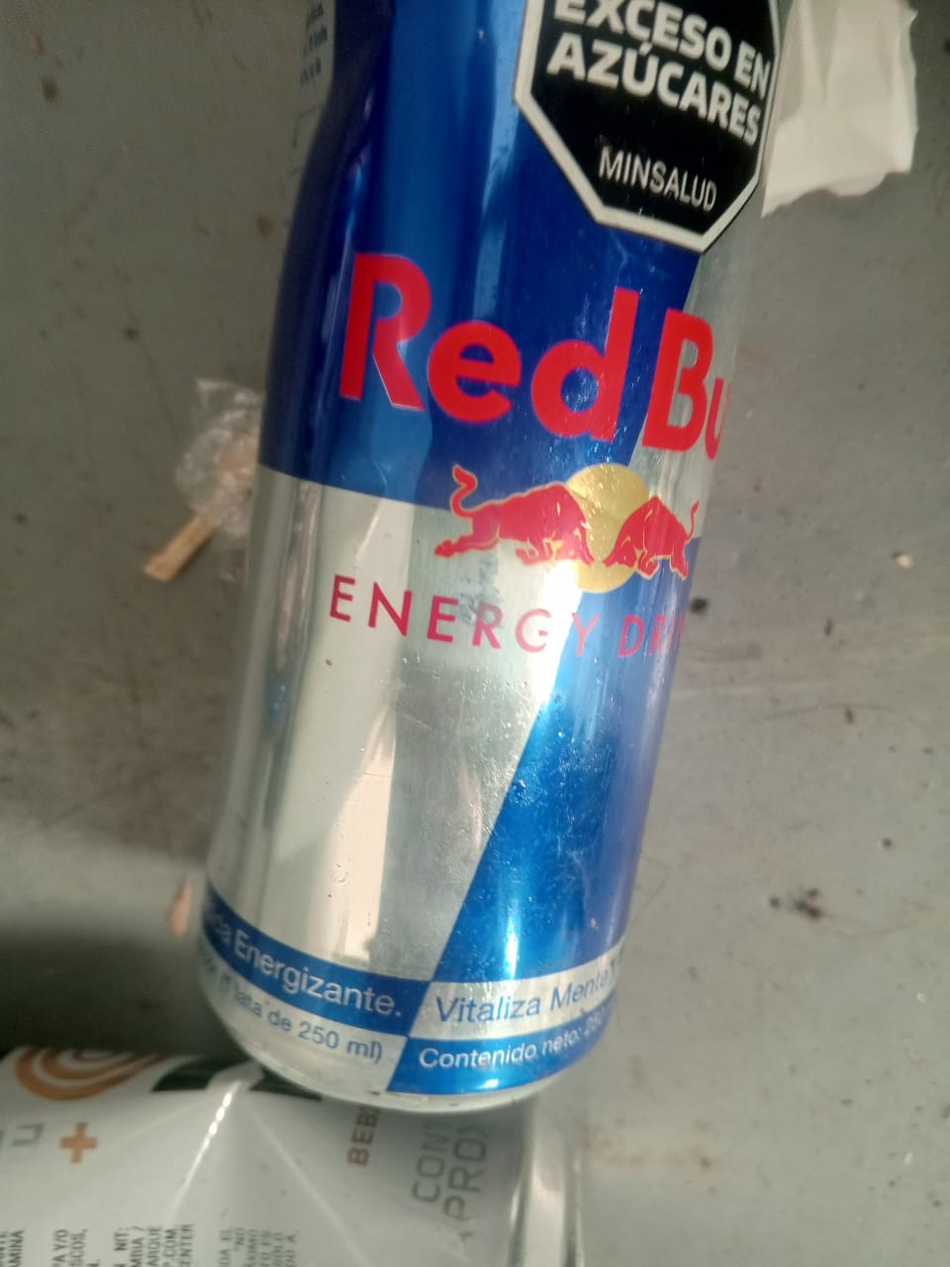Metal: (193, 0, 781, 1110), (0, 1053, 595, 1267)
